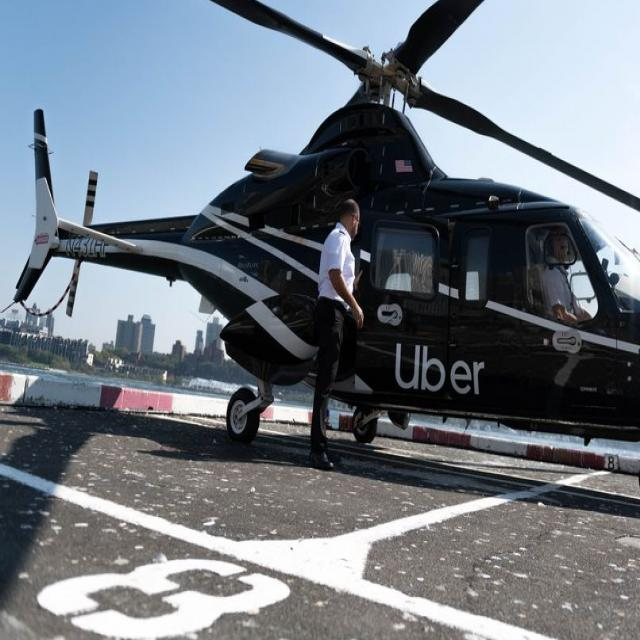helicopter: (1, 1, 640, 507)
